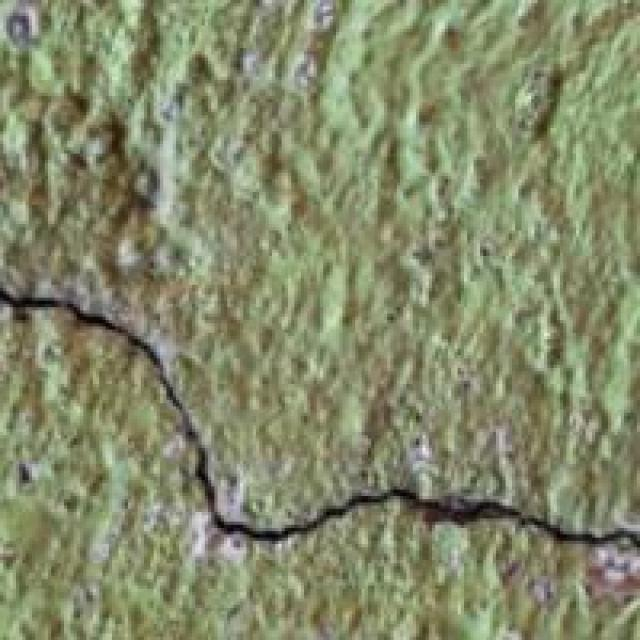crack: (0, 224, 637, 624)
